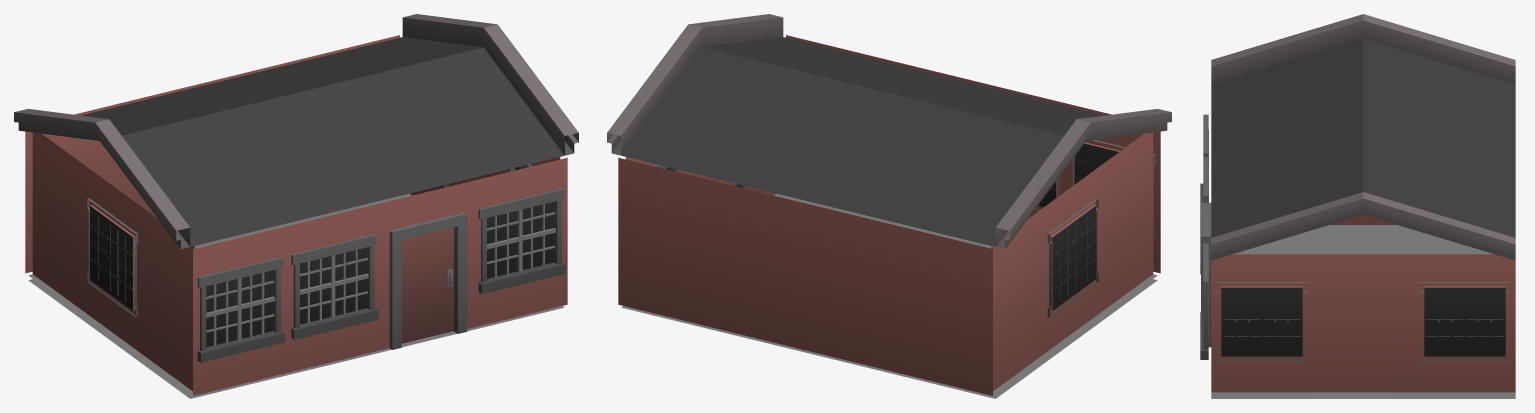
File: switchgear-hall.glb
The picture shows the model from 3 angles, left to right: view 1: azimuth 30°, elevation 25°; view 2: azimuth 150°, elevation 25°; view 3: azimuth 270°, elevation 25°; orthographic projection. The views are drawn at different scales.
Visible parts, largest first — view 1: TreyIndustrialSwitchgearHallVisual; view 2: TreyIndustrialSwitchgearHallVisual; view 3: TreyIndustrialSwitchgearHallVisual.
Part boxes in pixels (x1,y1,x2,y2): TreyIndustrialSwitchgearHallVisual: [14, 14, 578, 398]; TreyIndustrialSwitchgearHallVisual: [607, 14, 1171, 398]; TreyIndustrialSwitchgearHallVisual: [1200, 14, 1515, 398].
Size of the model in its own units: 8.6 by 4.5 by 6.32.
Materials: 1 (1 with a texture image).
